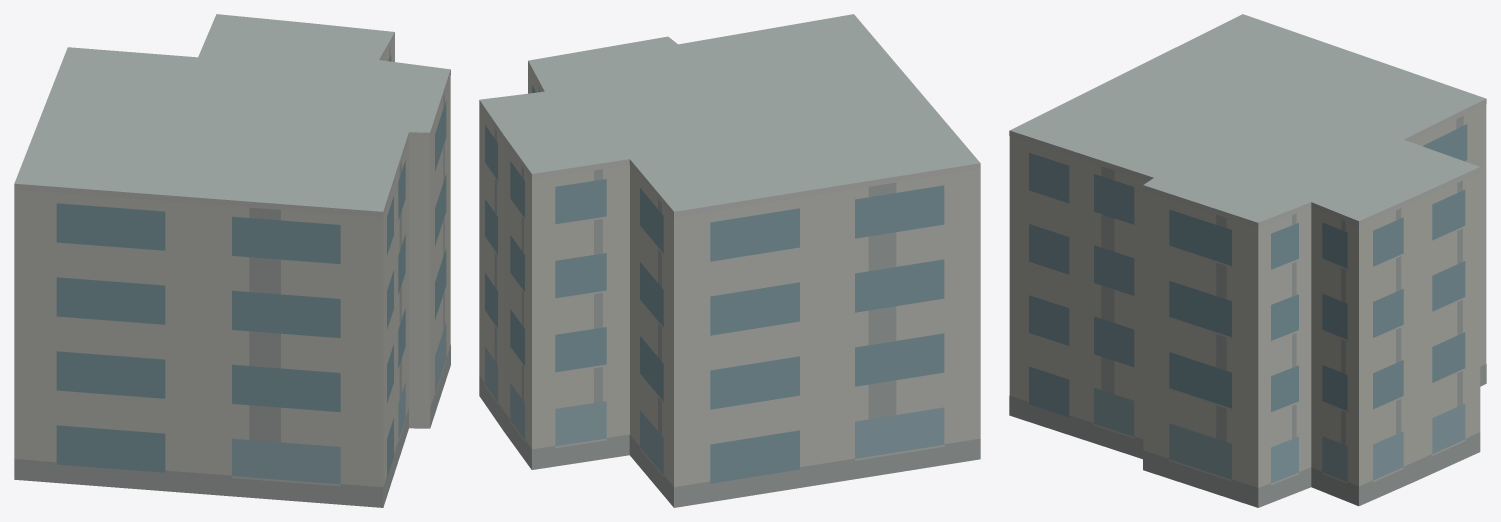
Rendered from survey-upis-32502309.glb.
3 renders of one model, left to right at view 1: azimuth 30°, elevation 25°; view 2: azimuth 150°, elevation 25°; view 3: azimuth 270°, elevation 25°, orthographic. The views are drawn at different scales.
Parts seen in each view (by area): view 1: survey-upis-32502309.tmp; view 2: survey-upis-32502309.tmp; view 3: survey-upis-32502309.tmp.
Part boxes in pixels (<box>): survey-upis-32502309.tmp: <box>14,14,450,507</box>; survey-upis-32502309.tmp: <box>479,14,980,507</box>; survey-upis-32502309.tmp: <box>1009,14,1486,507</box>.
Bounding box in the file's own units: 19.18 × 12.2 × 18.5.
